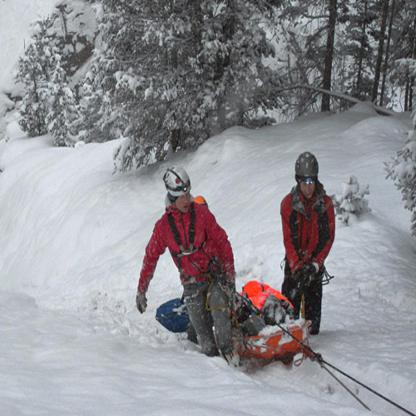face: (175, 190, 191, 214), (301, 175, 317, 199)
